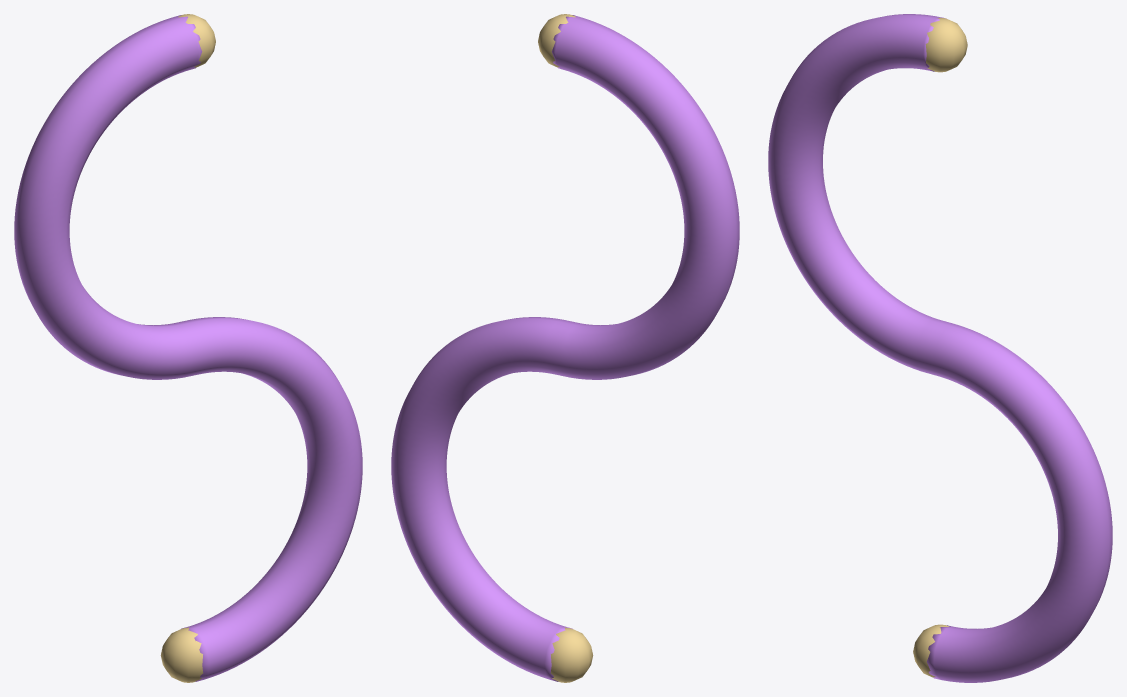
Rendered from s-hook-DplJHZ9Z.glb.
3 renders of one model, left to right at view 1: azimuth 30°, elevation 25°; view 2: azimuth 150°, elevation 25°; view 3: azimuth 330°, elevation 25°, orthographic.
Parts seen in each view (by area): view 1: R3D_s-hook_Body_0, R3D_s-hook_Tip_0, R3D_s-hook_Tip_1; view 2: R3D_s-hook_Body_0, R3D_s-hook_Tip_0, R3D_s-hook_Tip_1; view 3: R3D_s-hook_Body_0, R3D_s-hook_Tip_1, R3D_s-hook_Tip_0.
Boxes of the visible parts, x1=… form: R3D_s-hook_Body_0: x1=14, y1=15, x2=362, y2=681; R3D_s-hook_Tip_0: x1=160, y1=627, x2=203, y2=682; R3D_s-hook_Tip_1: x1=178, y1=14, x2=215, y2=67; R3D_s-hook_Body_0: x1=391, y1=15, x2=739, y2=681; R3D_s-hook_Tip_0: x1=550, y1=627, x2=593, y2=682; R3D_s-hook_Tip_1: x1=538, y1=14, x2=575, y2=67; R3D_s-hook_Body_0: x1=768, y1=14, x2=1112, y2=682; R3D_s-hook_Tip_1: x1=925, y1=17, x2=967, y2=72; R3D_s-hook_Tip_0: x1=913, y1=624, x2=949, y2=677.
Bounding box in the file's own units: 1.28 × 2.38 × 0.18.
